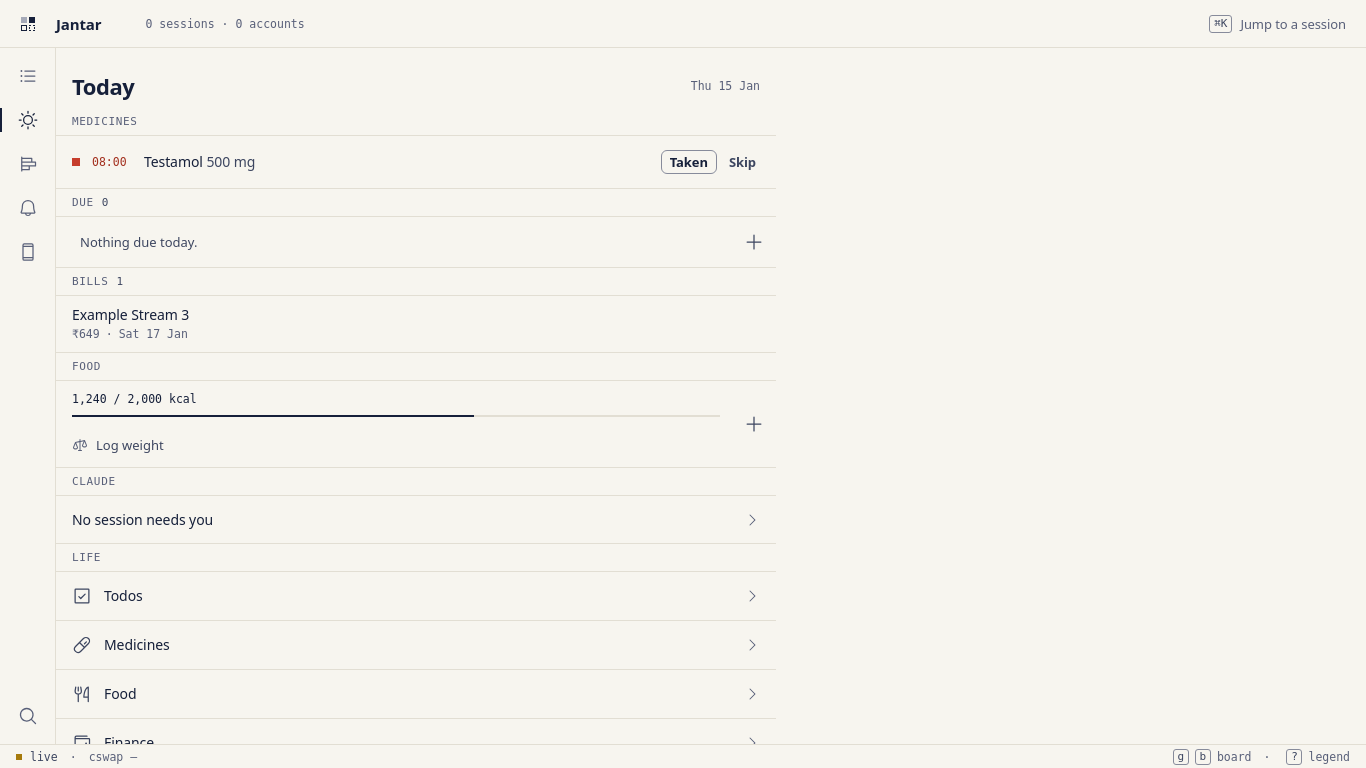
Test: Today: quick adds (v0.5.3) › Add todo is there with nothing due too
The width and height of the screenshot is (1366, 768).
Expected: the text "Nothing due today." is shown, [80,233,197,251]
Click the button named "Add todo".
click(754, 242)  # box [740,228,768,256]
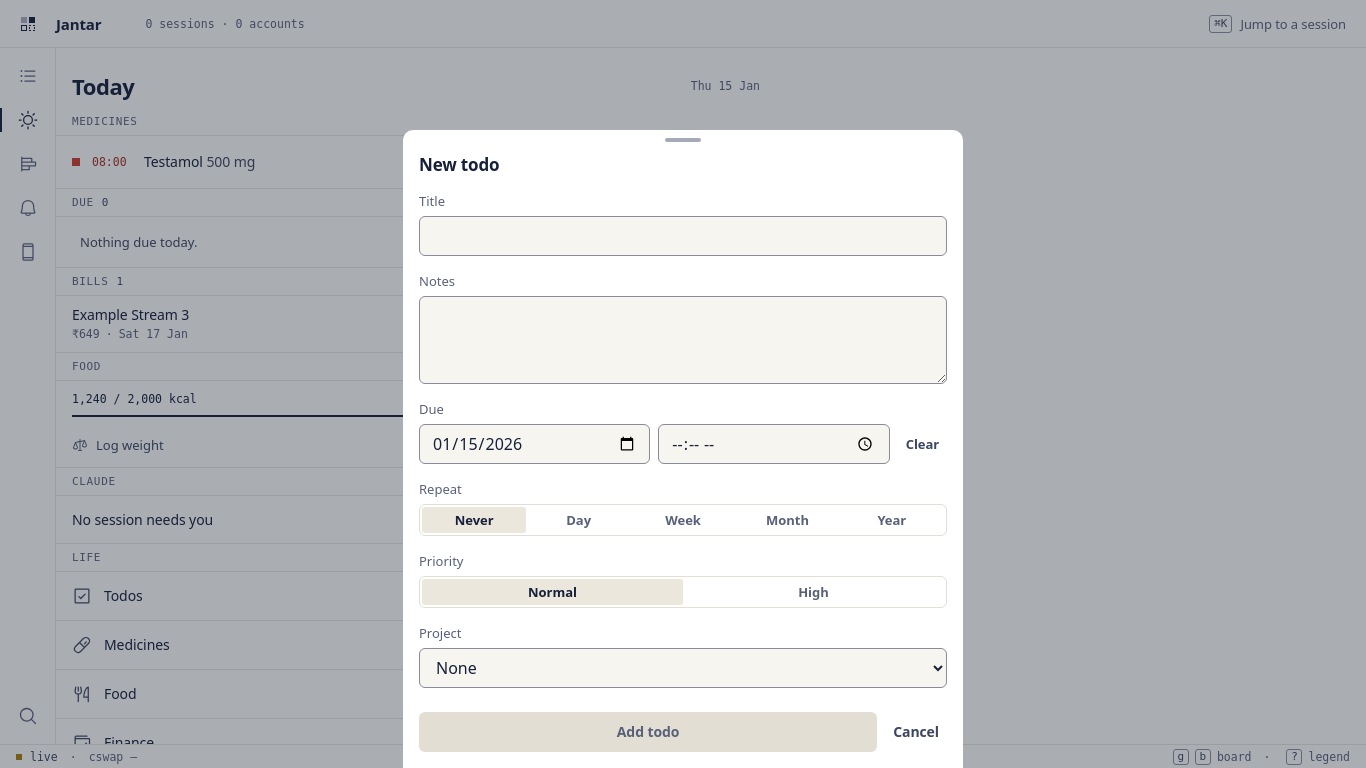
Expected: the dialog "New todo" is shown, [403,130,963,767]
